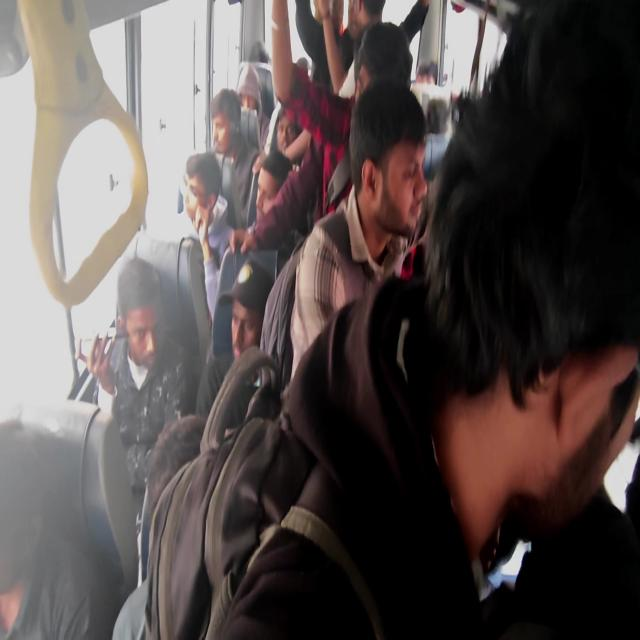person: (214, 1, 639, 637), (258, 77, 428, 391), (230, 2, 416, 255), (75, 256, 198, 586), (195, 258, 274, 418), (182, 151, 234, 324), (208, 87, 259, 227), (313, 0, 385, 96), (236, 62, 270, 149), (254, 149, 292, 223), (275, 104, 312, 168)
